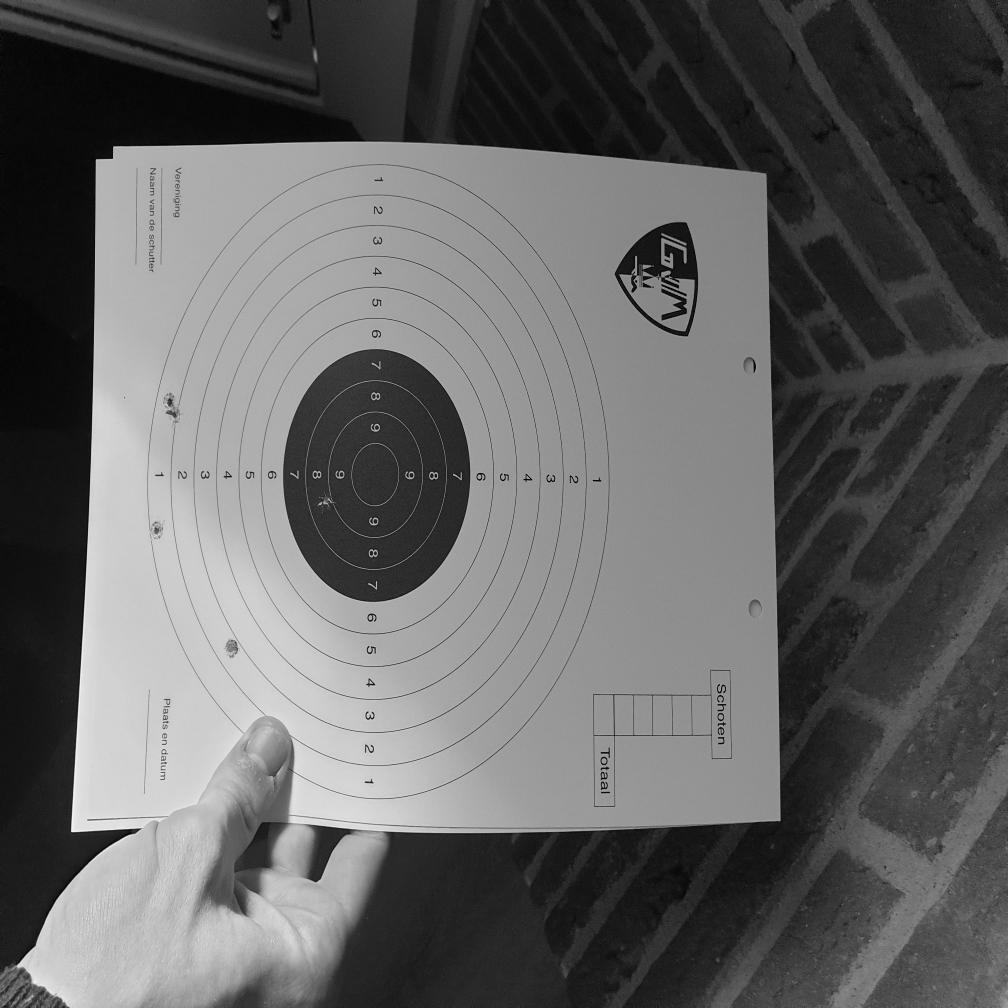1: (149, 517, 165, 542), (162, 391, 177, 410)
2: (165, 406, 184, 429), (224, 638, 239, 659)
9: (316, 492, 336, 514)
Target: (144, 163, 612, 803)
black_contour: (283, 349, 471, 603)
